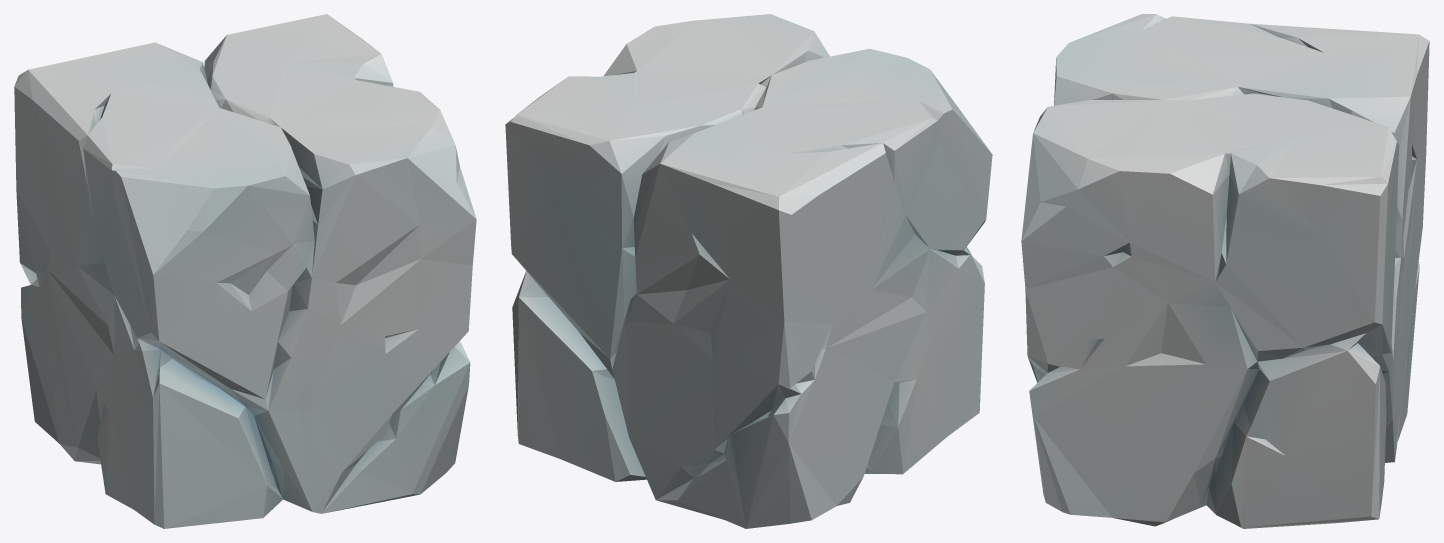
Rendered from gen-ice.glb.
3 renders of one model, left to right at view 1: azimuth 30°, elevation 25°; view 2: azimuth 150°, elevation 25°; view 3: azimuth 270°, elevation 25°, orthographic. The views are drawn at different scales.
Visible parts, largest first — view 1: model; view 2: model; view 3: model.
Part boxes in pixels (x1,y1,x2,y2): model: (14, 14, 476, 528); model: (505, 14, 992, 528); model: (1021, 14, 1429, 528).
Bounding box in the file's own units: 1.02 × 1 × 1.02.
